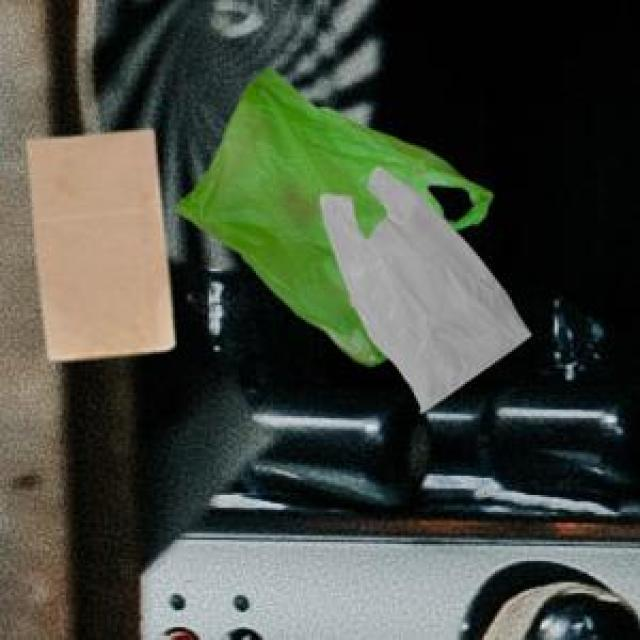paper: (24, 126, 171, 356)
